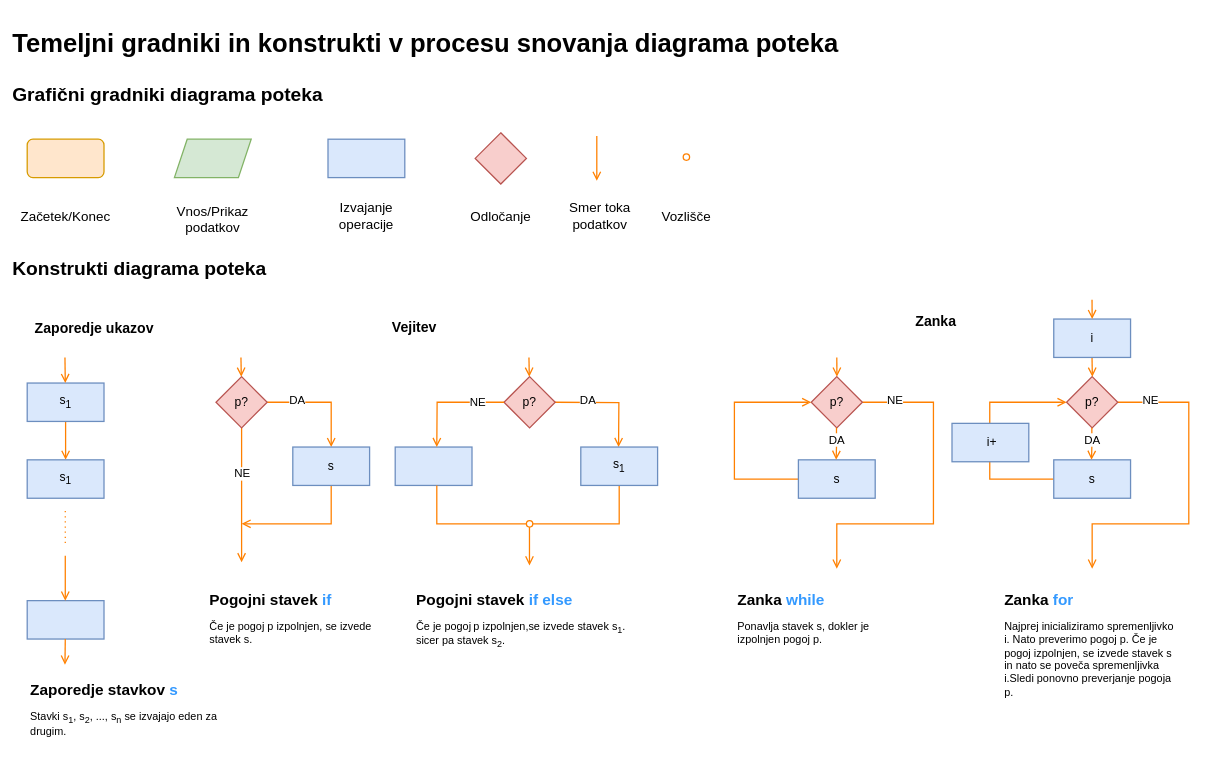
This 1208x765 diagram has some shape labels left out. The shapes that lost their labels are listed below. From the top down, each one's centre as x and y in pixels, then its label:
At (x=433, y=466): "s 2".
At (x=65, y=619): "s n".
